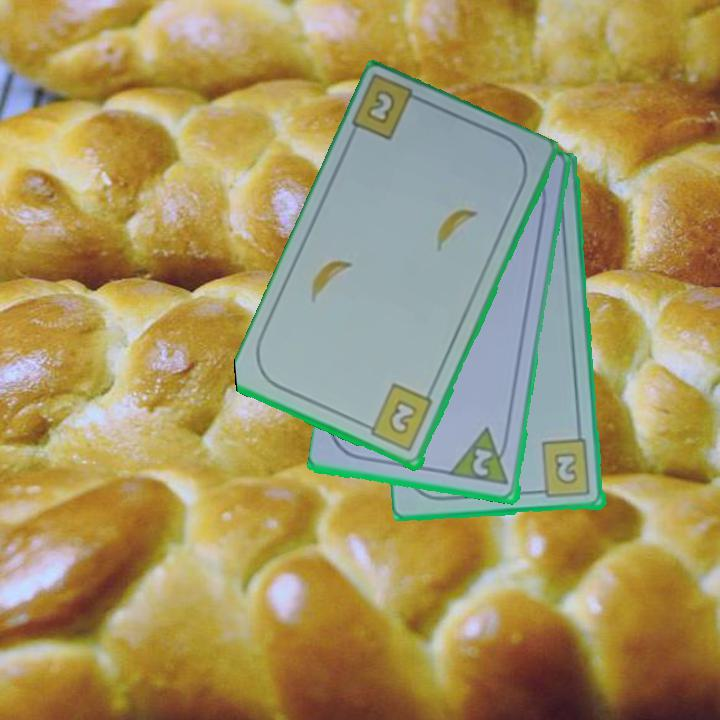2b: (359, 381, 436, 455), (532, 437, 594, 501), (362, 90, 396, 128)
2p: (448, 425, 513, 489)
